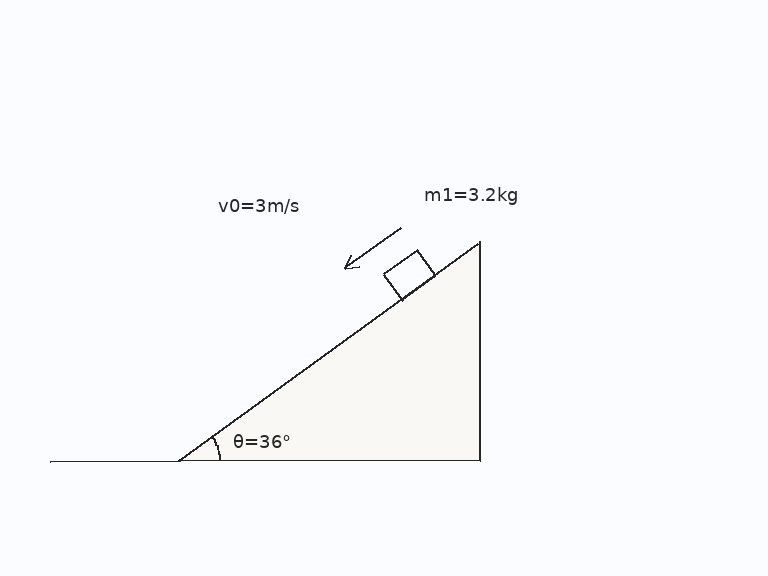block: (381, 248, 437, 301)
ramp: (178, 241, 481, 462)
